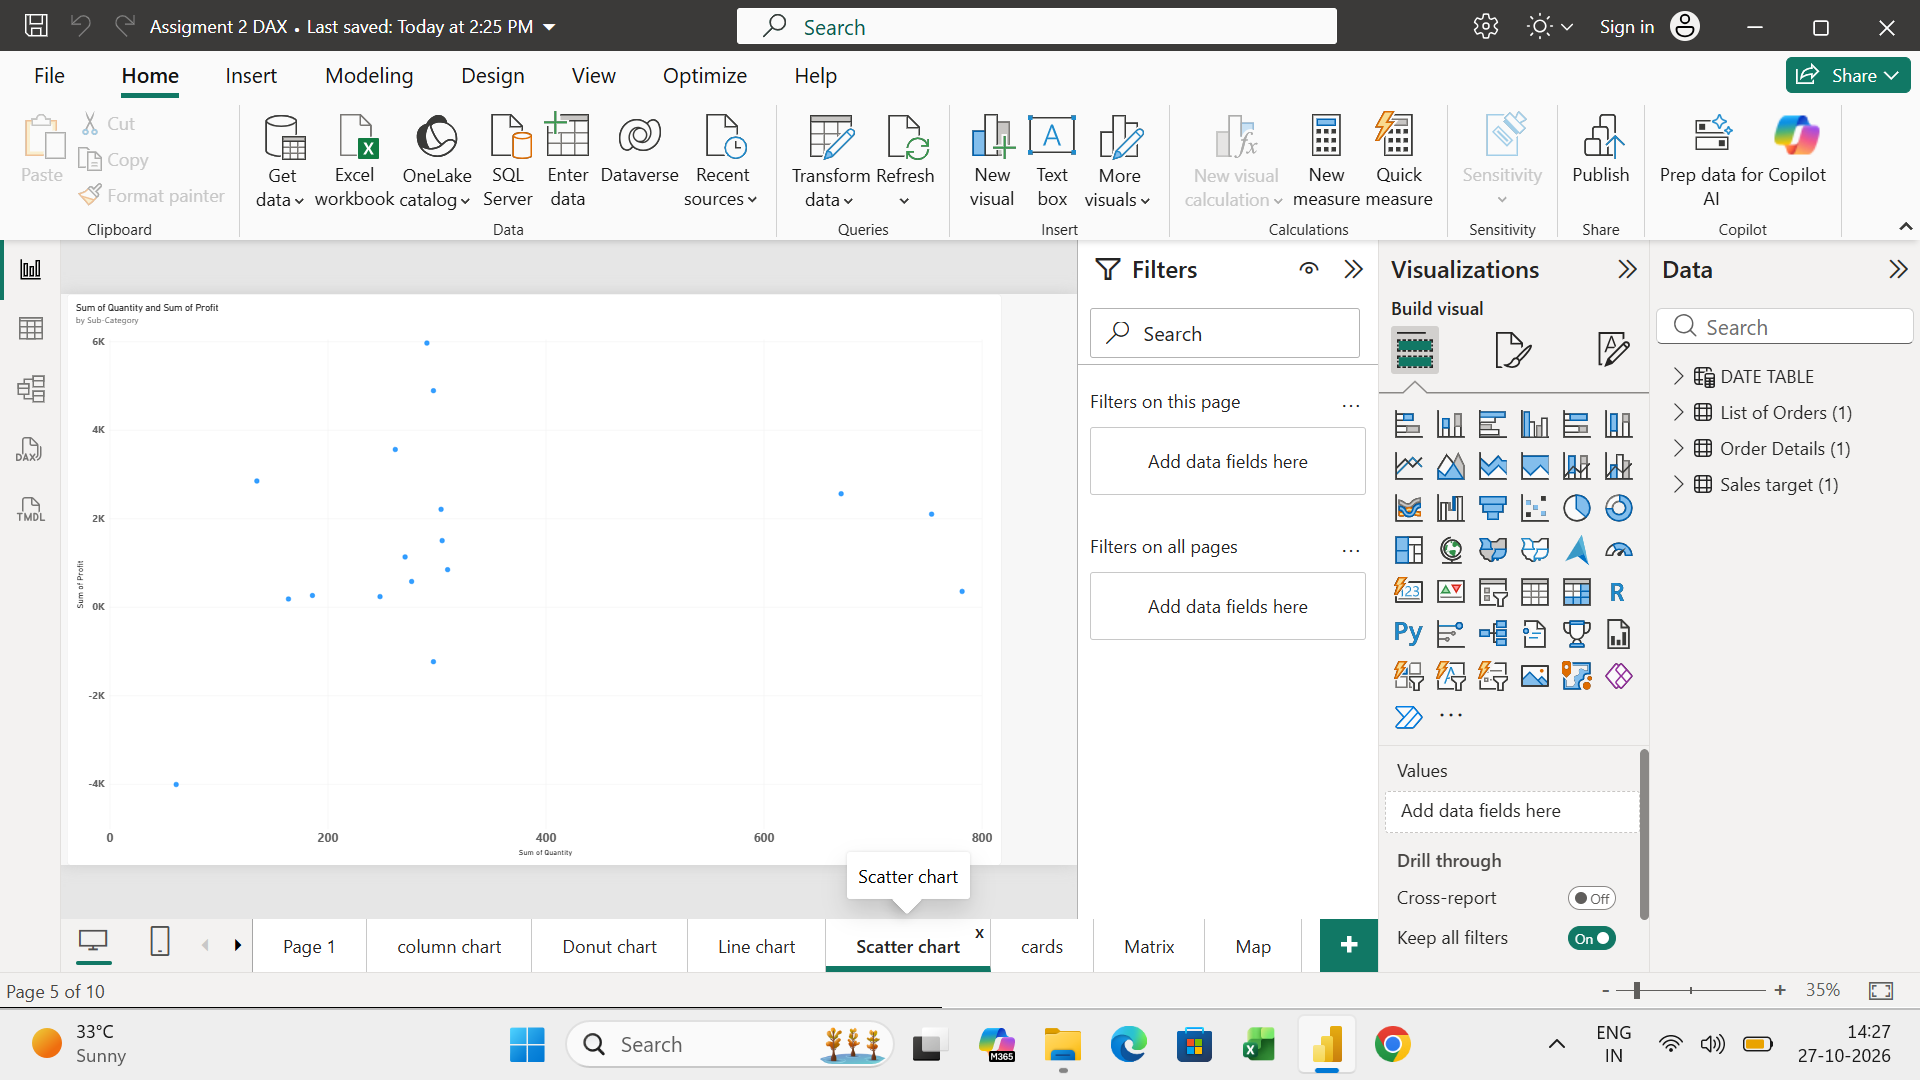

What the dashboard file says about the page in this screenshot:
{"tool":"powerbi","page":{"name":"Scatter chart","canvas":[1920,1080],"ordinal":4},"visuals":[{"type":"scatterChart","fields":{"Category":["Order Details (1).Sub-Category"],"X":["Sum(Order Details (1).Quantity)"],"Y":["Sum(Order Details (1).Profit)"]},"box":[11.3,0,1766,1080],"z":0}]}

Visuals, with their boxes on the page's 1920x1080 design canvas (x1, y1, x2, y2). These are canvas units, not pixel positions in the 1920x1080 screenshot, which may show the page scaled, cropped or inside an application window:
scatterChart - Order Details (1).Sub-Category x Sum(Order Details (1).Quantity): (left=11, top=0, right=1777, bottom=1080)
